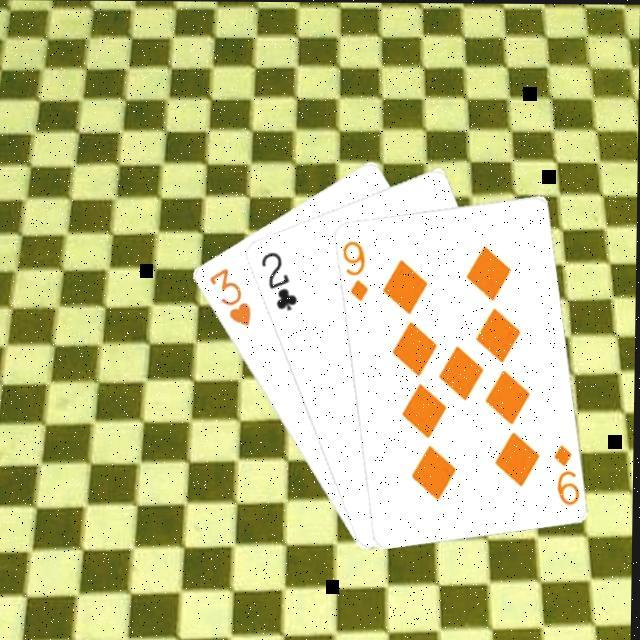2C: (256, 246, 301, 312)
3H: (204, 262, 255, 328)
9D: (339, 234, 372, 302), (549, 439, 582, 507)
